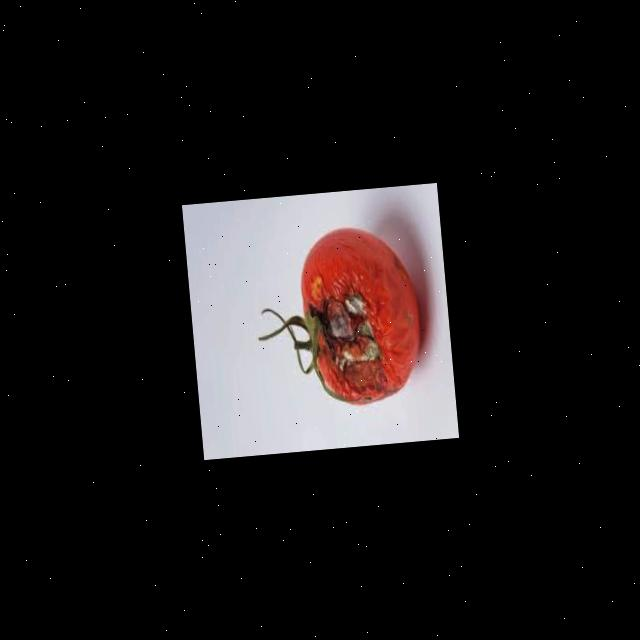tomato: (276, 215, 432, 418)
